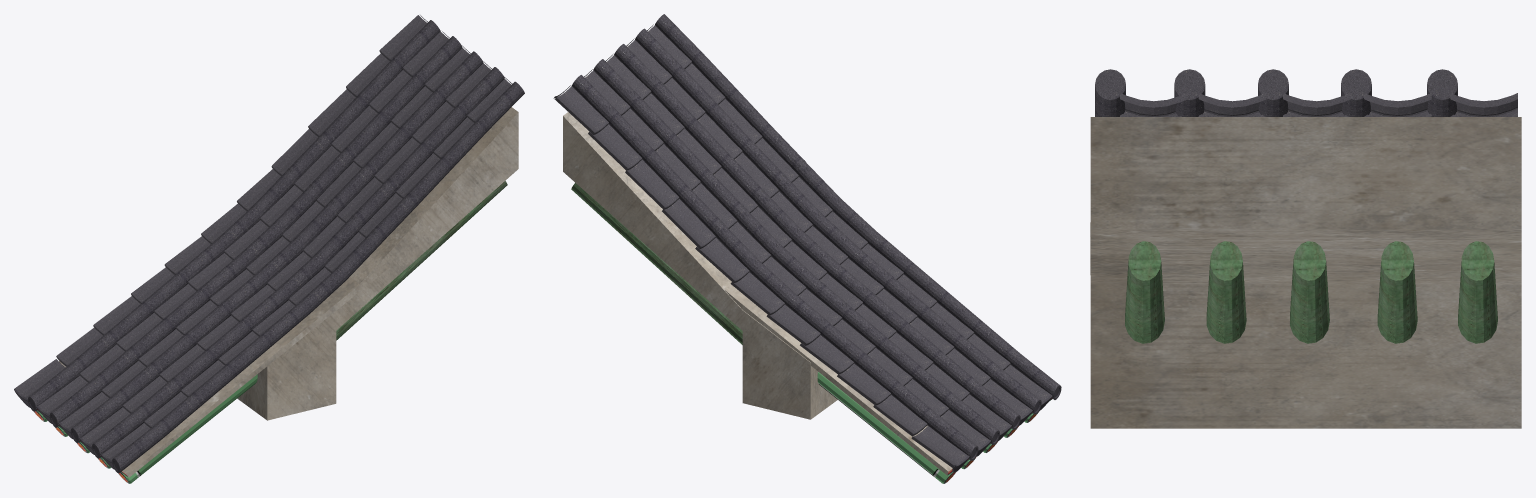
The model's file is SM_Roof_15.fbx.
3 renders of one model, left to right at view 1: azimuth 30°, elevation 25°; view 2: azimuth 150°, elevation 25°; view 3: azimuth 270°, elevation 25°, orthographic. The views are drawn at different scales.
Parts seen in each view (by area): view 1: SM_Roof_15; view 2: SM_Roof_15; view 3: SM_Roof_15.
Part boxes in pixels (left/top/right/bottom): SM_Roof_15: left=14, top=15, right=524, bottom=483; SM_Roof_15: left=553, top=14, right=1061, bottom=483; SM_Roof_15: left=1090, top=69, right=1521, bottom=428.
Size of the model in its own units: 457 by 211 by 334.
5 materials, 5 textured.
